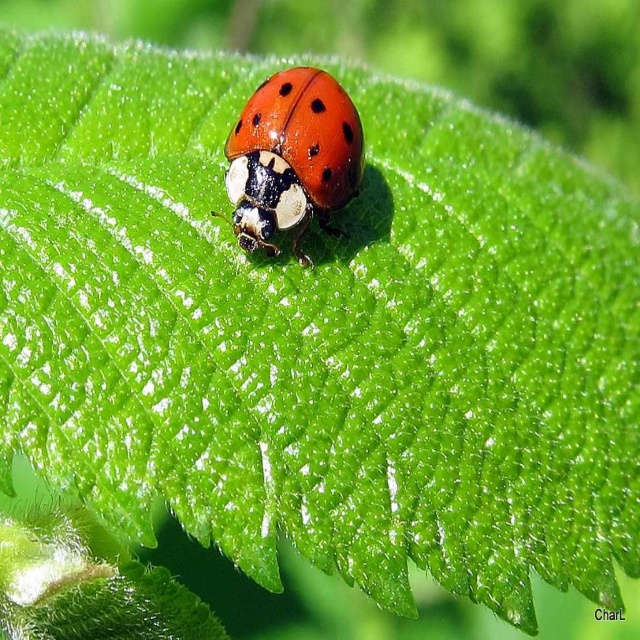Ladybug: (208, 65, 365, 272)
